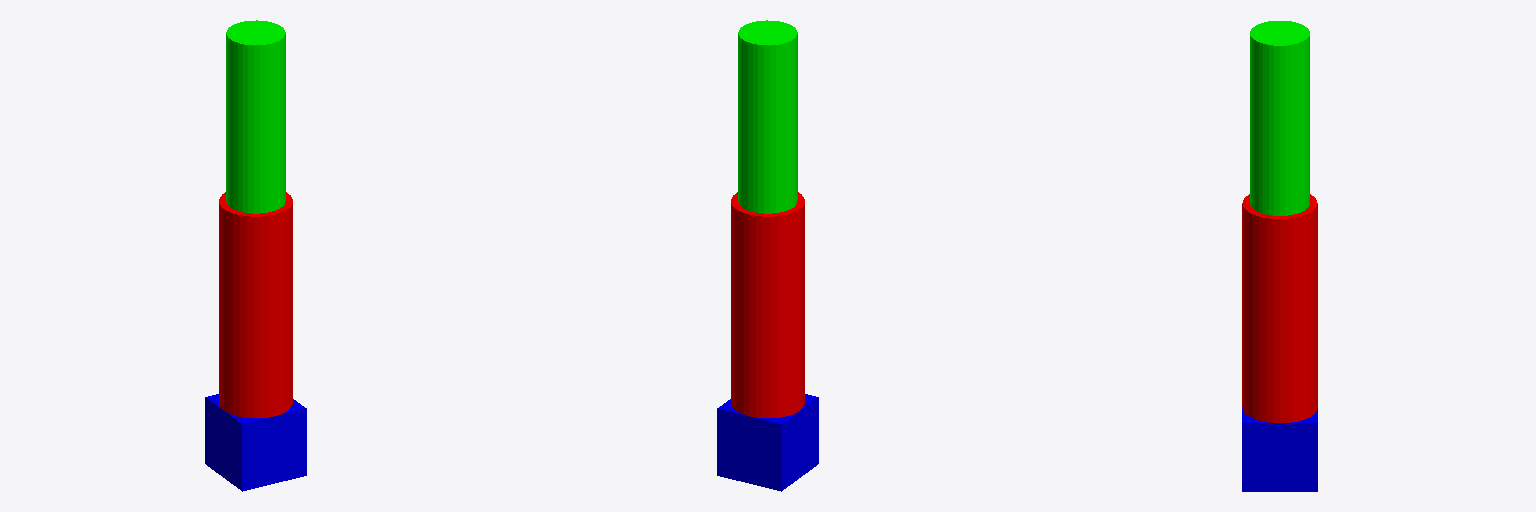
URDF robot description (simple_arm):
<?xml version="1.0"?>
<!-- Simple 2-DOF arm for basic testing -->
<robot name="simple_arm">
  <link name="base_link">
    <visual>
      <geometry>
        <box size="0.1 0.1 0.1"/>
      </geometry>
      <material name="blue">
        <color rgba="0 0 1 1"/>
      </material>
    </visual>
    <collision>
      <geometry>
        <box size="0.1 0.1 0.1"/>
      </geometry>
    </collision>
    <inertial>
      <mass value="1.0"/>
      <origin xyz="0 0 0" rpy="0 0 0"/>
      <inertia ixx="0.01" ixy="0" ixz="0" iyy="0.01" iyz="0" izz="0.01"/>
    </inertial>
  </link>

  <link name="link1">
    <visual>
      <geometry>
        <cylinder radius="0.05" length="0.3"/>
      </geometry>
      <origin xyz="0 0 0.15" rpy="0 0 0"/>
      <material name="red">
        <color rgba="1 0 0 1"/>
      </material>
    </visual>
    <collision>
      <geometry>
        <cylinder radius="0.05" length="0.3"/>
      </geometry>
      <origin xyz="0 0 0.15" rpy="0 0 0"/>
    </collision>
    <inertial>
      <mass value="0.5"/>
      <origin xyz="0 0 0.15" rpy="0 0 0"/>
      <inertia ixx="0.01" ixy="0" ixz="0" iyy="0.01" iyz="0" izz="0.01"/>
    </inertial>
  </link>

  <link name="link2">
    <visual>
      <geometry>
        <cylinder radius="0.04" length="0.25"/>
      </geometry>
      <origin xyz="0 0 0.125" rpy="0 0 0"/>
      <material name="green">
        <color rgba="0 1 0 1"/>
      </material>
    </visual>
    <collision>
      <geometry>
        <cylinder radius="0.04" length="0.25"/>
      </geometry>
      <origin xyz="0 0 0.125" rpy="0 0 0"/>
    </collision>
    <inertial>
      <mass value="0.3"/>
      <origin xyz="0 0 0.125" rpy="0 0 0"/>
      <inertia ixx="0.005" ixy="0" ixz="0" iyy="0.005" iyz="0" izz="0.005"/>
    </inertial>
  </link>

  <joint name="joint1" type="revolute">
    <parent link="base_link"/>
    <child link="link1"/>
    <origin xyz="0 0 0.05" rpy="0 0 0"/>
    <axis xyz="0 0 1"/>
    <limit lower="-3.14159" upper="3.14159" effort="10" velocity="1"/>
    <dynamics damping="0.1" friction="0.01"/>
  </joint>

  <joint name="joint2" type="revolute">
    <parent link="link1"/>
    <child link="link2"/>
    <origin xyz="0 0 0.3" rpy="0 0 0"/>
    <axis xyz="0 1 0"/>
    <limit lower="-1.5708" upper="1.5708" effort="10" velocity="1"/>
    <dynamics damping="0.1" friction="0.01"/>
  </joint>
</robot>

--- Facts derived from the render (not from the file) ---
3 views of the same robot in one strip: view 1: azimuth 30°, elevation 25°; view 2: azimuth 150°, elevation 25°; view 3: azimuth 270°, elevation 25° (orthographic).
Model simple_arm with 3 links and 2 joints (2 revolute), rooted at base_link, posed all joints at 0.
Visible links, largest first — view 1: link1, link2, base_link; view 2: link1, link2, base_link; view 3: link1, link2, base_link.
Boxes of the visible links, box(x1,y1,x2,y2) form: link1: box(219, 192, 292, 417); link2: box(226, 20, 285, 213); base_link: box(205, 394, 306, 491); link1: box(731, 192, 804, 417); link2: box(738, 20, 797, 213); base_link: box(717, 394, 818, 491); link1: box(1242, 194, 1317, 422); link2: box(1250, 21, 1309, 215); base_link: box(1242, 408, 1317, 491).
Bounding box of the posed robot: 0.1 × 0.1 × 0.65 m (x, y, z).
Geometry: primitives only (box / cylinder / sphere), no mesh files.